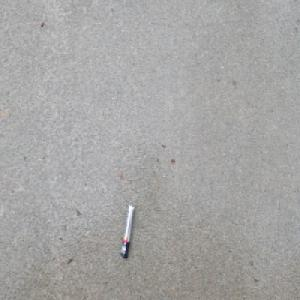Battery: (120, 202, 135, 260)
